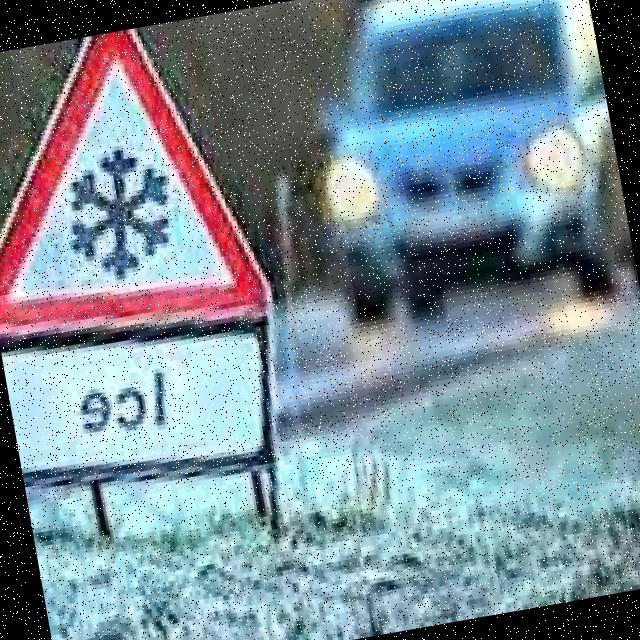snow_warning: (0, 12, 277, 357)
